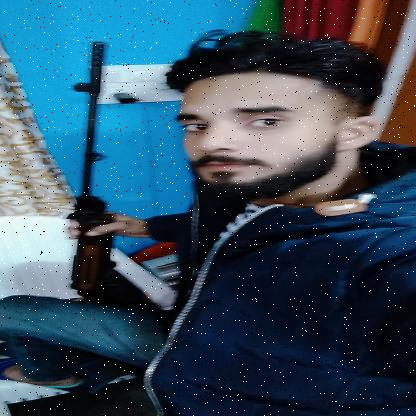rifle: (63, 39, 124, 307)
